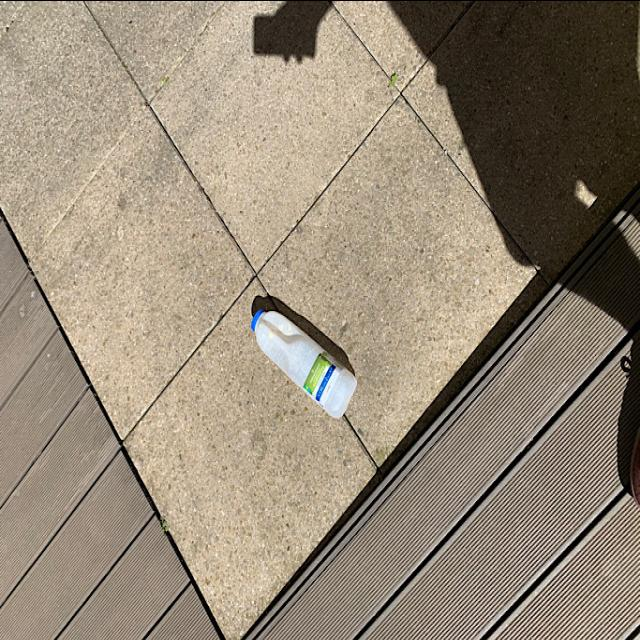HDPEM: (248, 306, 362, 415)
